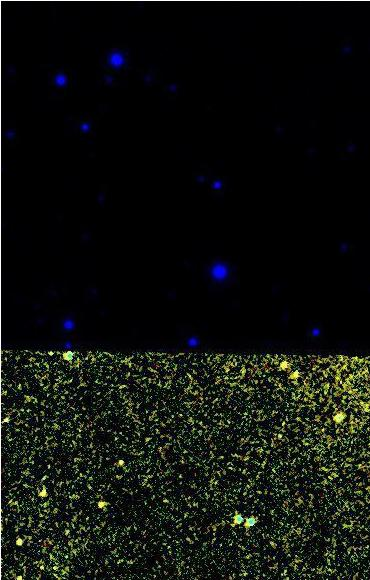star: (272, 419, 302, 449)
